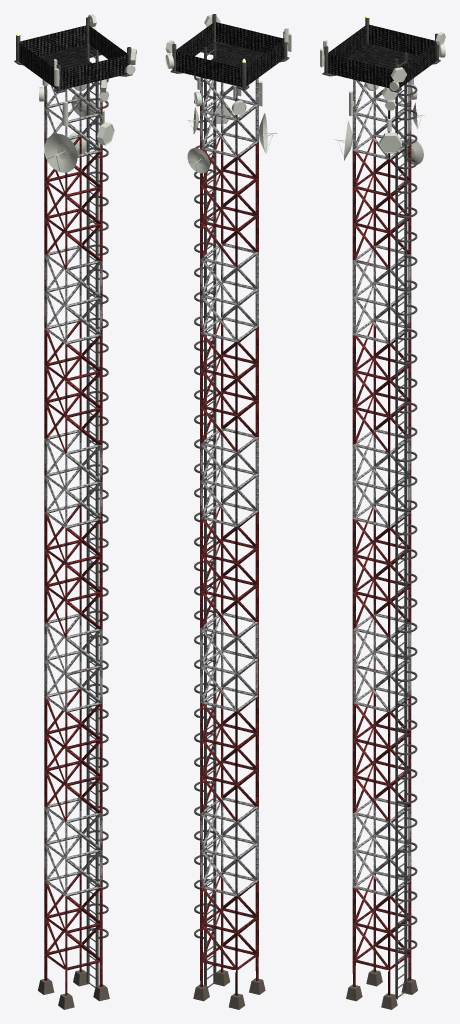
Rendered from radio_tower.fbx.
3 views of the same model, side by side, from view 1: azimuth 30°, elevation 25°; view 2: azimuth 150°, elevation 25°; view 3: azimuth 330°, elevation 25° (orthographic).
Parts seen in each view (by area): view 1: Tower, Ladder, Grid, Antenna.001, Foot, Columns, Antenna; view 2: Tower, Ladder, Grid, Foot, Antenna.003, Columns; view 3: Tower, Ladder, Grid, Foot, Antenna, Columns.
Part boxes in pixels (<box>): Tower: <box>44,80,102,995</box>; Ladder: <box>86,43,108,987</box>; Grid: <box>19,25,127,90</box>; Antenna.001: <box>44,133,77,172</box>; Foot: <box>38,969,109,1009</box>; Columns: <box>16,17,131,91</box>; Antenna: <box>97,122,114,145</box>; Tower: <box>200,77,258,995</box>; Ladder: <box>194,40,216,987</box>; Grid: <box>176,22,283,87</box>; Foot: <box>193,969,265,1009</box>; Antenna.003: <box>187,148,209,173</box>; Columns: <box>172,14,287,88</box>; Tower: <box>352,79,411,995</box>; Ladder: <box>395,52,417,999</box>; Grid: <box>328,24,436,88</box>; Foot: <box>346,969,417,1009</box>; Antenna: <box>379,132,401,153</box>; Columns: <box>324,17,438,90</box>.
Size of the model in its own units: 482 by 5207 by 499.
Materials: 6 (4 with a texture image).
